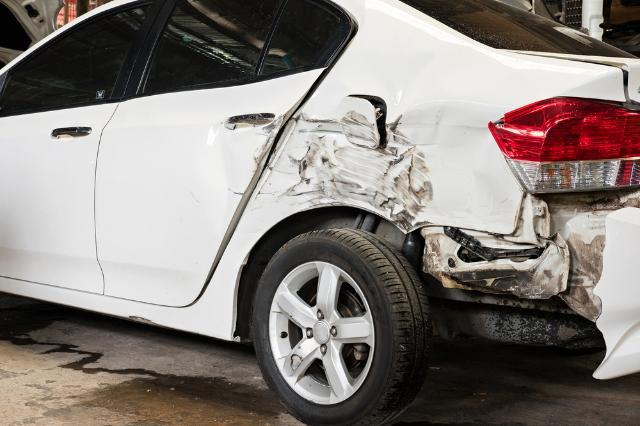dent: (292, 103, 495, 231), (218, 110, 281, 197)
dislocated part: (410, 185, 640, 380)
